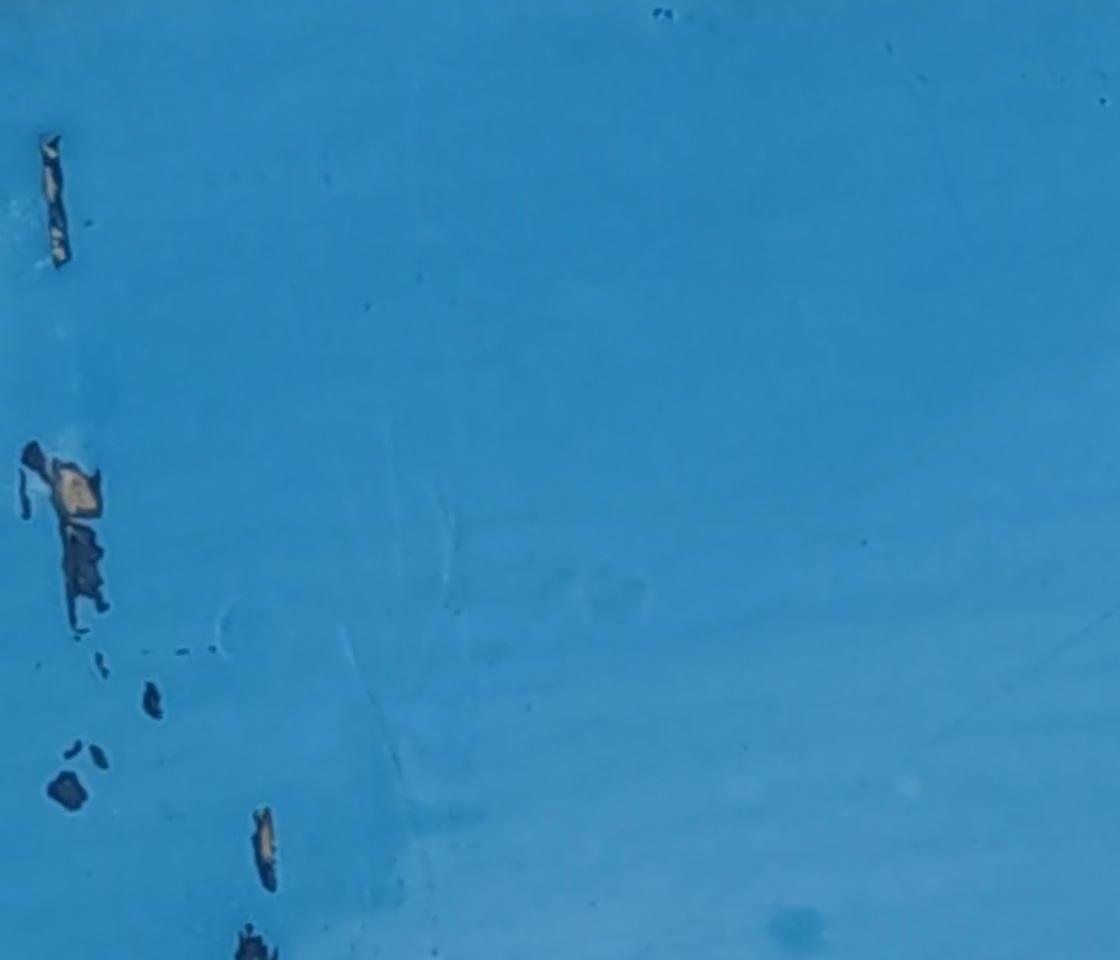paint_peel: (8, 434, 123, 644), (226, 792, 302, 907), (28, 125, 82, 279), (34, 732, 119, 821), (135, 671, 172, 730)
